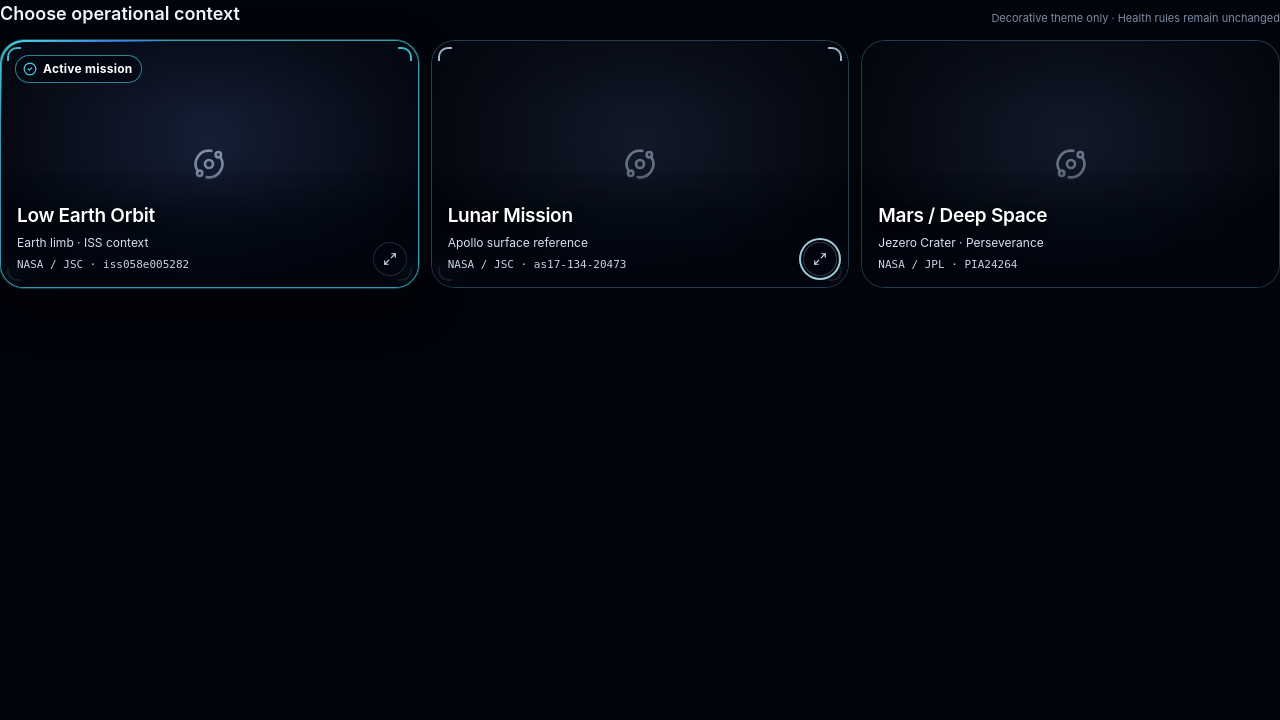
Test: MissionSelector › returns focus to the expand button when the media dialog closes
Click the button named "Expand Lunar Mission NASA media" at (820, 259), box [803,242,837,276]
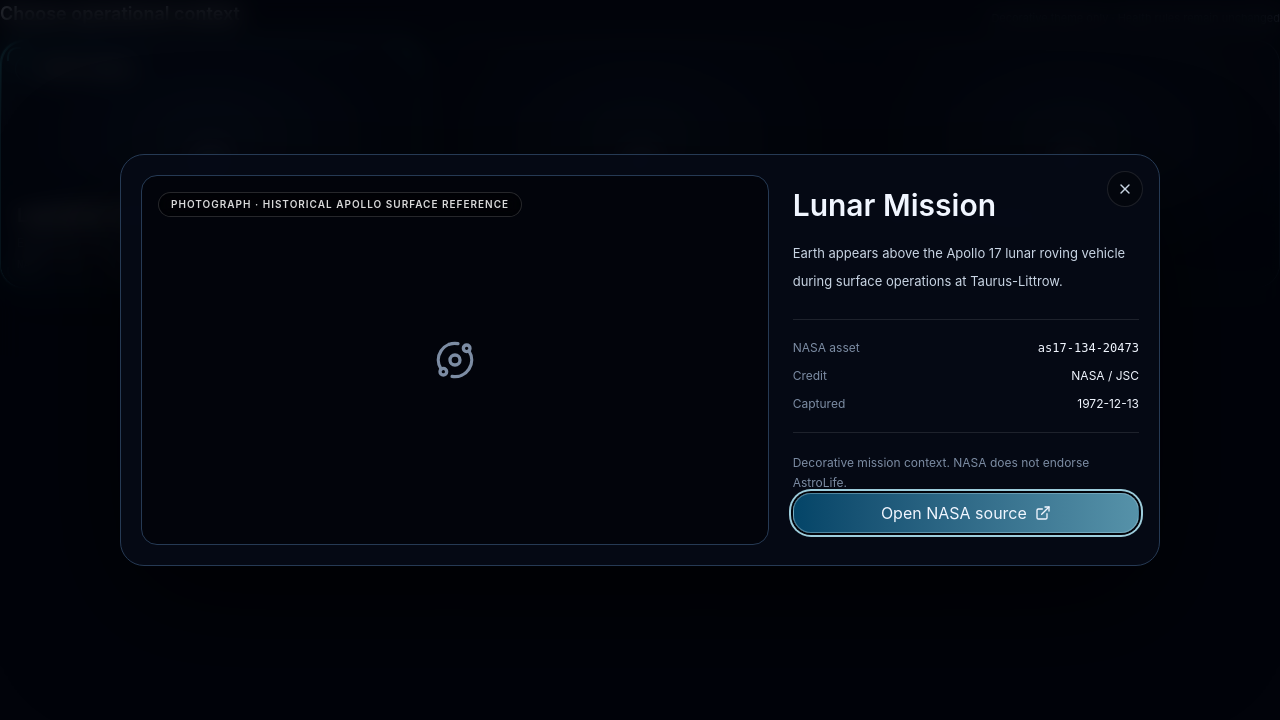
Check: the dialog is shown
Press Escape in the dialog, box [120,154,1160,566]
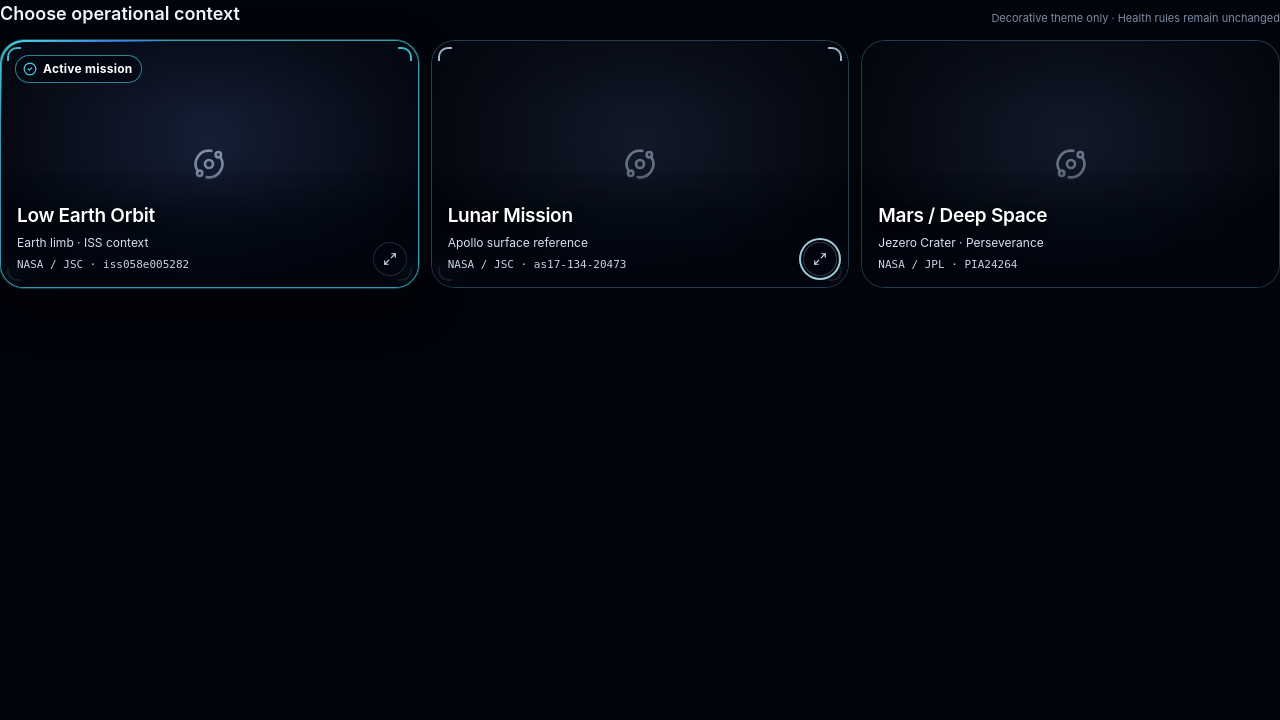
Check: the dialog is gone
